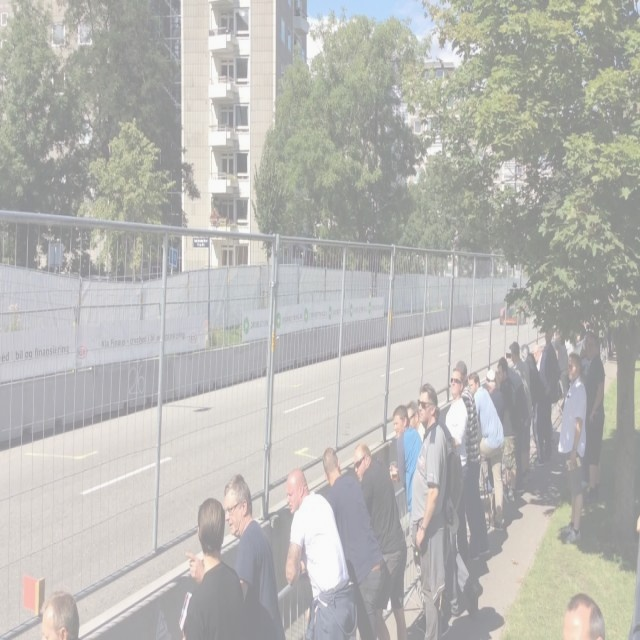pessoa: (185, 473, 288, 639), (278, 460, 358, 640), (321, 444, 387, 640), (406, 376, 454, 639), (353, 441, 409, 639), (436, 414, 484, 618), (182, 496, 246, 639), (450, 358, 490, 564), (440, 364, 470, 576), (557, 349, 589, 547), (467, 370, 505, 528), (580, 332, 606, 508), (388, 404, 424, 518), (498, 357, 528, 487), (508, 340, 534, 476), (520, 342, 548, 468), (496, 358, 520, 496), (486, 367, 516, 467), (538, 327, 560, 453), (557, 589, 611, 639), (38, 586, 80, 640), (626, 509, 640, 639), (549, 322, 571, 402), (404, 397, 426, 442), (576, 326, 594, 361), (530, 343, 546, 373)
